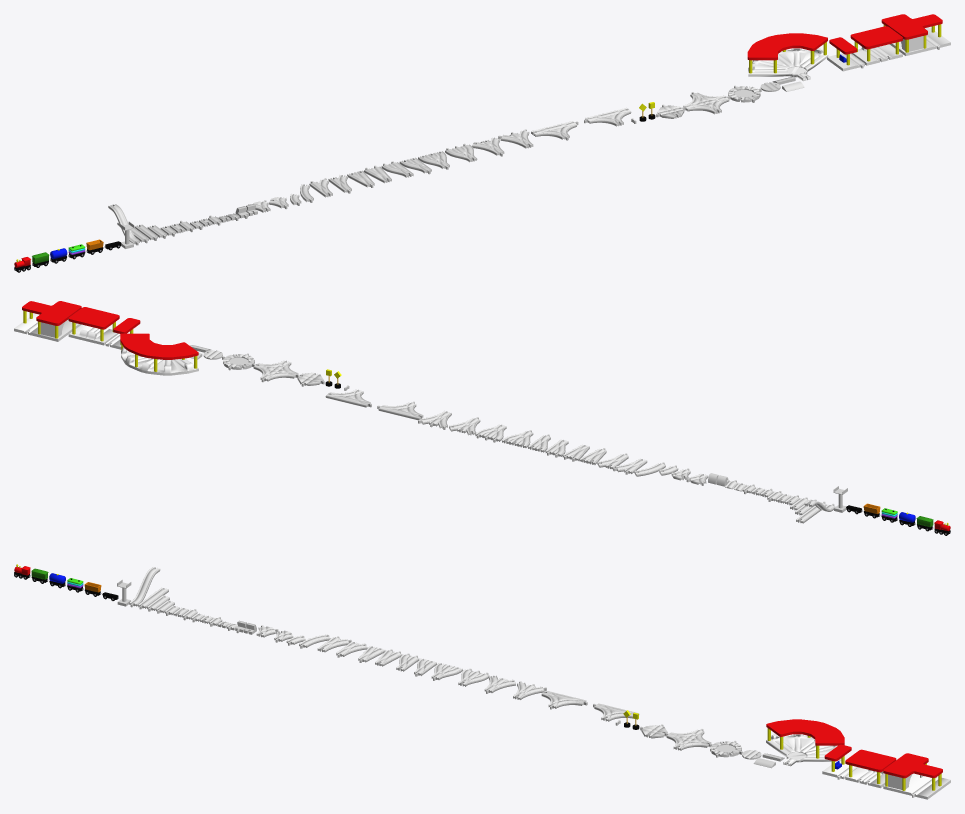
The model's file is TrainSet.fbx.
The picture shows the model from 3 angles, top to bottom: view 1: azimuth 30°, elevation 25°; view 2: azimuth 150°, elevation 25°; view 3: azimuth 330°, elevation 25°; orthographic projection. The views are drawn at different scales.
Visible parts, largest first — view 1: Train_Shed_Parts_low, Train_Shed_low, Train_Station_Large_Parts_low, Train_Garage_Parts_low, Star_Switch_Track_low, Train_Garage_low; view 2: Train_Shed_Parts_low, Train_Station_Large_Parts_low, Train_Shed_low, Train_Garage_Parts_low, Star_Switch_Track_low, Train_Station_Large_low, Train_Garage_low; view 3: Train_Shed_Parts_low, Train_Shed_low, Train_Station_Large_Parts_low, Train_Garage_Parts_low, Train_Station_Large_low, Star_Switch_Track_low, Train_Garage_low.
Part boxes in pixels (x1,y1,x2,y2): Train_Shed_Parts_low: (747, 33, 827, 73); Train_Shed_low: (748, 48, 828, 81); Train_Station_Large_Parts_low: (881, 14, 942, 52); Train_Garage_Parts_low: (850, 26, 902, 61); Star_Switch_Track_low: (682, 92, 729, 114); Train_Garage_low: (851, 44, 902, 65); Train_Shed_Parts_low: (120, 333, 198, 371); Train_Station_Large_Parts_low: (22, 301, 81, 338); Train_Shed_low: (121, 347, 198, 375); Train_Garage_Parts_low: (68, 307, 119, 341); Star_Switch_Track_low: (253, 360, 299, 382); Train_Station_Large_low: (14, 313, 81, 341); Train_Garage_low: (68, 324, 118, 345); Train_Shed_Parts_low: (766, 719, 844, 758); Train_Shed_low: (766, 734, 841, 766); Train_Station_Large_Parts_low: (883, 753, 942, 790); Train_Garage_Parts_low: (845, 749, 896, 783); Train_Station_Large_low: (883, 773, 950, 799); Star_Switch_Track_low: (665, 729, 711, 750); Train_Garage_low: (845, 767, 885, 788).
Bounding box in the file's own units: 517 × 11.45 × 44.71.
